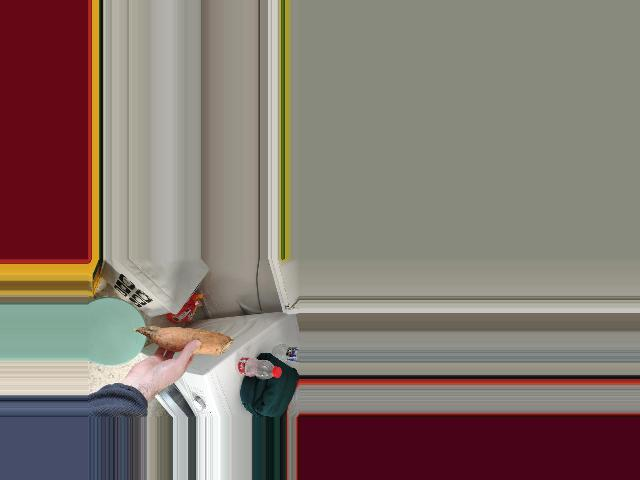sweet_potato: (129, 324, 236, 350)
